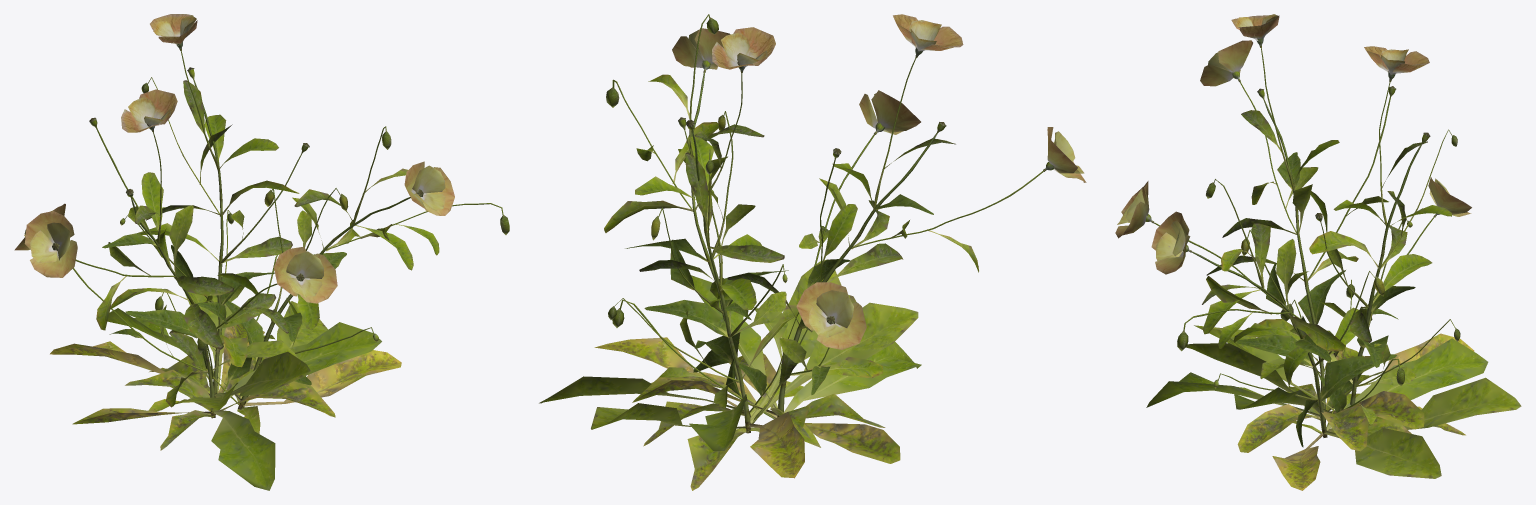
Rendered from Poppy_bush_short_yellowgreen.glb.
The picture shows the model from 3 angles, left to right: view 1: azimuth 30°, elevation 25°; view 2: azimuth 150°, elevation 25°; view 3: azimuth 270°, elevation 25°; orthographic projection. The views are drawn at different scales.
Visible parts, largest first — view 1: bush jr; view 2: bush jr; view 3: bush jr.
Boxes of the visible parts, x1=… form: bush jr: x1=14, y1=14, x2=509, y2=490; bush jr: x1=539, y1=14, x2=1086, y2=490; bush jr: x1=1115, y1=14, x2=1521, y2=490.
Size of the model in its own units: 4.09 by 3.29 by 3.16.
Materials: 1 (1 with a texture image).
